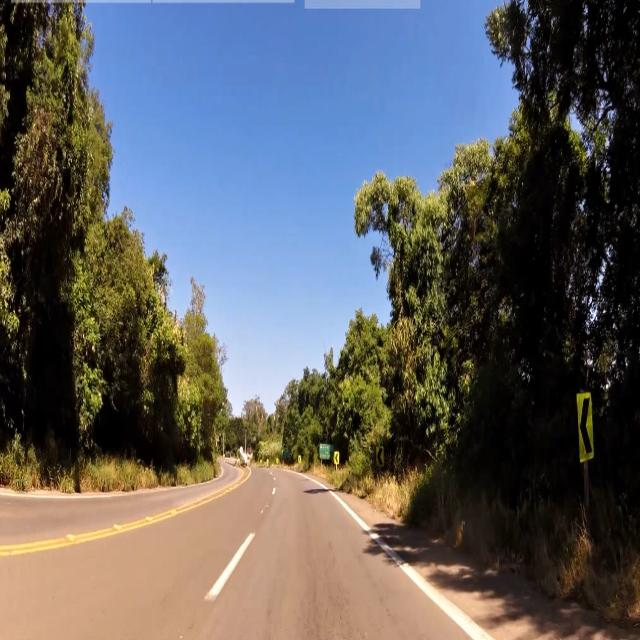Del: (576, 392, 594, 461)
